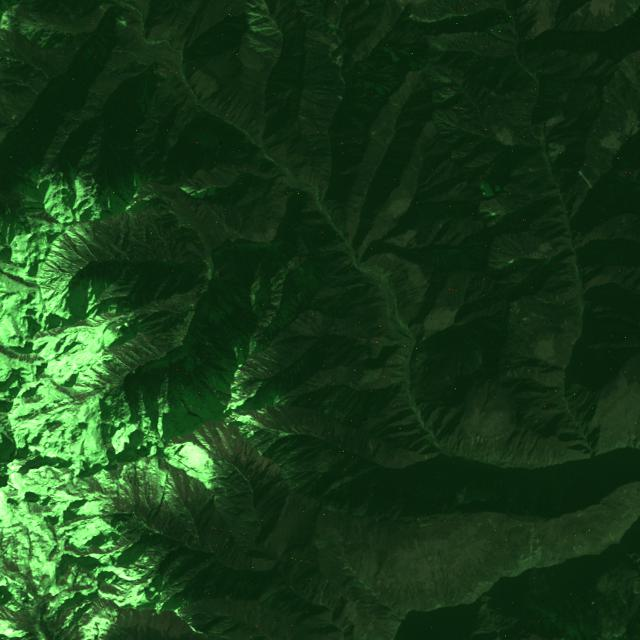landslides: (57, 234, 88, 263), (526, 473, 546, 516), (72, 233, 98, 260), (508, 471, 526, 504), (548, 470, 562, 510), (529, 528, 541, 566), (74, 223, 93, 245), (578, 171, 596, 194), (320, 247, 348, 260), (113, 46, 141, 55), (84, 220, 94, 241), (56, 253, 74, 264), (266, 409, 278, 423), (538, 298, 562, 304), (122, 57, 138, 66), (275, 405, 285, 418), (354, 519, 362, 535), (77, 246, 87, 256)
